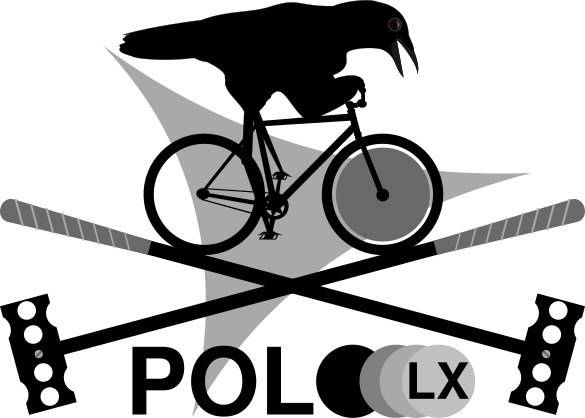bicycle: (142, 96, 448, 252)
bird: (117, 1, 426, 112)
